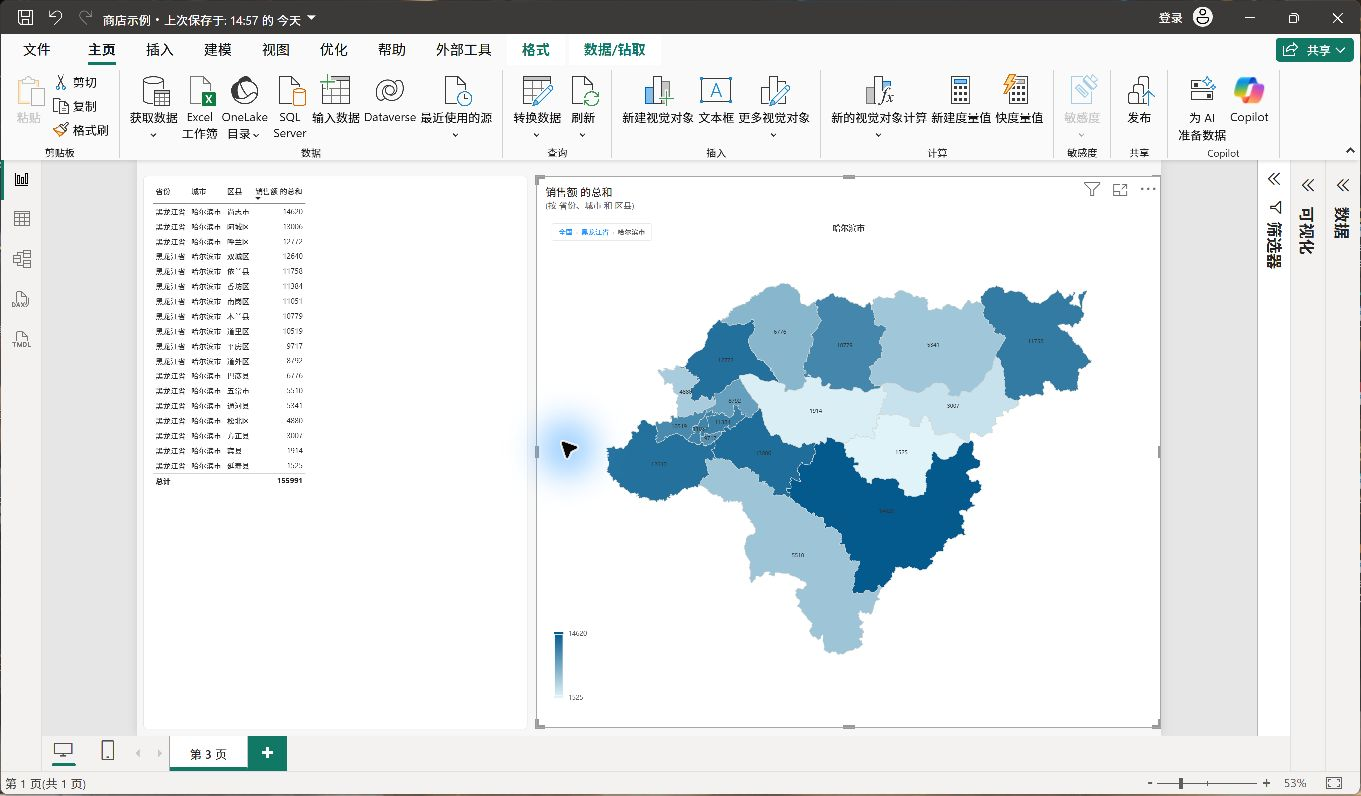

The page's visual inventory and layout, read from the dashboard file:
{"tool":"powerbi","page":{"name":"第 3 页","canvas":[1920,1080],"ordinal":0},"visuals":[{"type":"chinaMapDrilldownV2F4A1C8D973E64B5AA27D1E6C80B42951","fields":{"province":["地图测试数据.省份"],"measure":["Sum(地图测试数据.销售额)"],"city":["地图测试数据.城市"],"district":["地图测试数据.区县"]},"box":[748,29.8,1172,1035.6],"z":1},{"type":"tableEx","fields":{"Values":["地图测试数据.省份","地图测试数据.城市","地图测试数据.区县","Sum(地图测试数据.销售额)"]},"box":[10.7,29.8,720.3,1037.8],"z":2}]}

Visuals, with their boxes in screenshot pixels (x1, y1, x2, y2):
chinaMapDrilldownV2F4A1C8D973E64B5AA27D1E6C80B42951 - 地图测试数据.省份 x Sum(地图测试数据.销售额): 535:32:1360:783
tableEx - 地图测试数据.省份 x 地图测试数据.城市: 1:32:523:784
